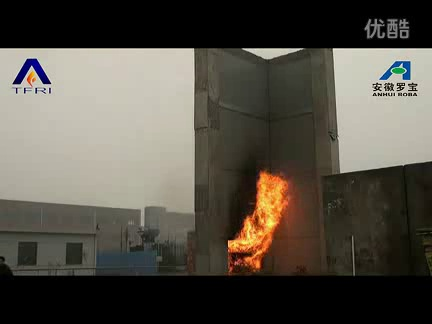fire: (224, 169, 296, 277)
